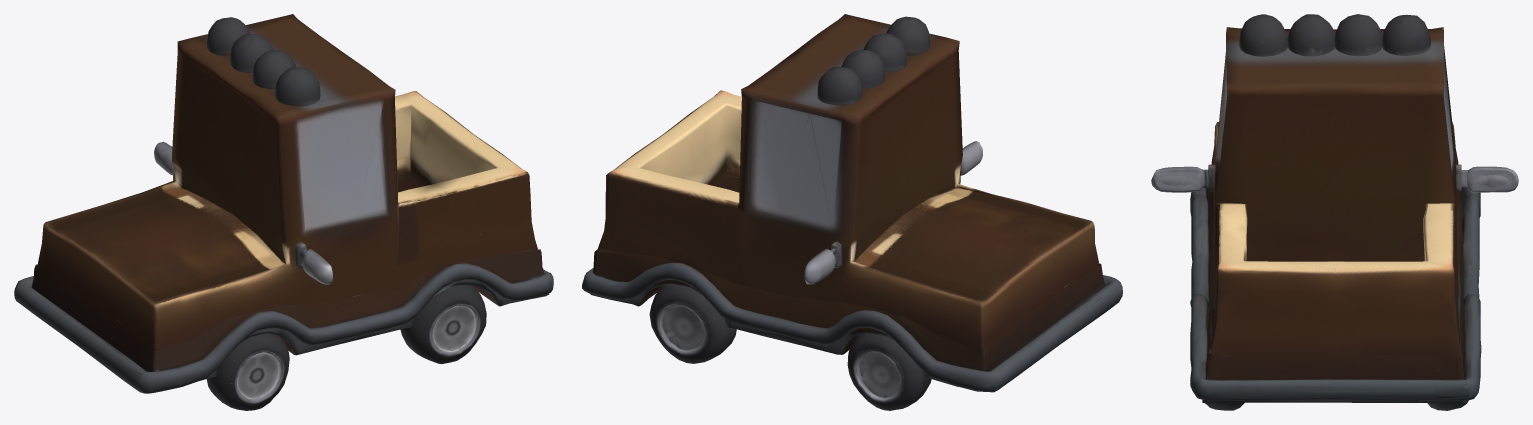
Rendered from Meshy_AI_Cozy_Armchair_0920174340_texture.glb.
3 renders of one model, left to right at view 1: azimuth 30°, elevation 25°; view 2: azimuth 150°, elevation 25°; view 3: azimuth 270°, elevation 25°, orthographic. The views are drawn at different scales.
Bounding box in the file's own units: 1 × 0.7129 × 0.7305.
Materials: 1 (1 with a texture image).
